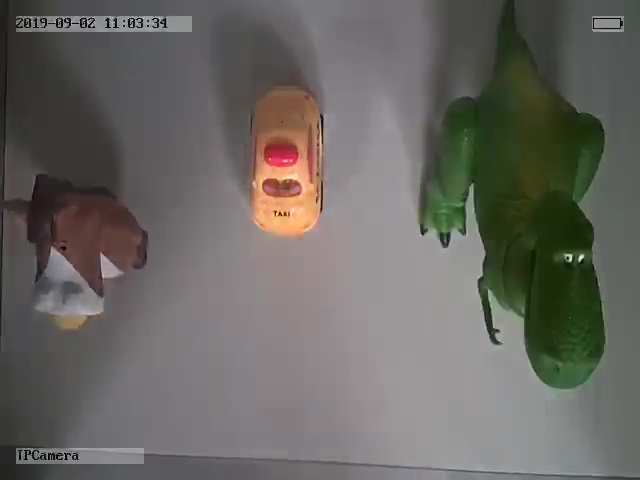car: (246, 83, 326, 236)
horse: (7, 173, 150, 331)
rex: (416, 11, 606, 390)
